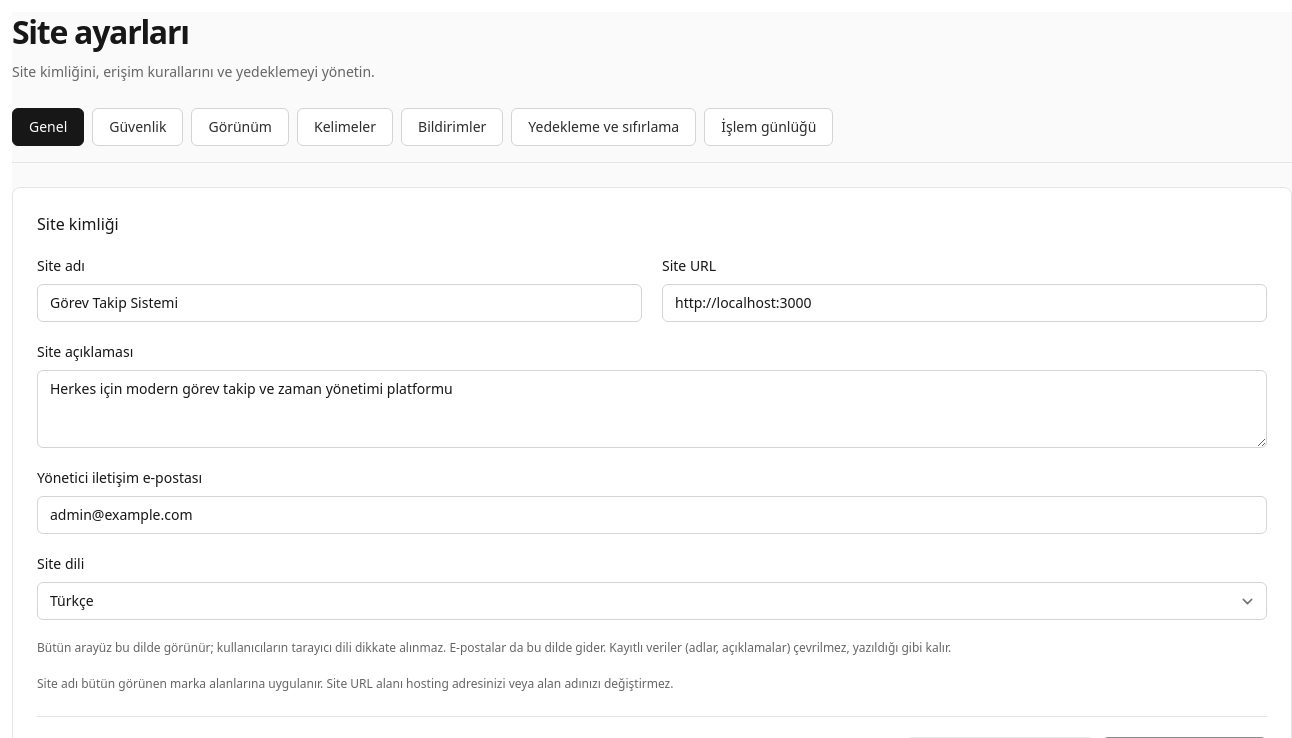
Scenario: distinguishes backup read errors from an empty catalog and supports retry
Expected: the field labelled "Site adı" is shown, [37,284,642,322]
Click the button "Yedekleme ve sıfırlama".
click(604, 127)  # box [511,108,696,146]
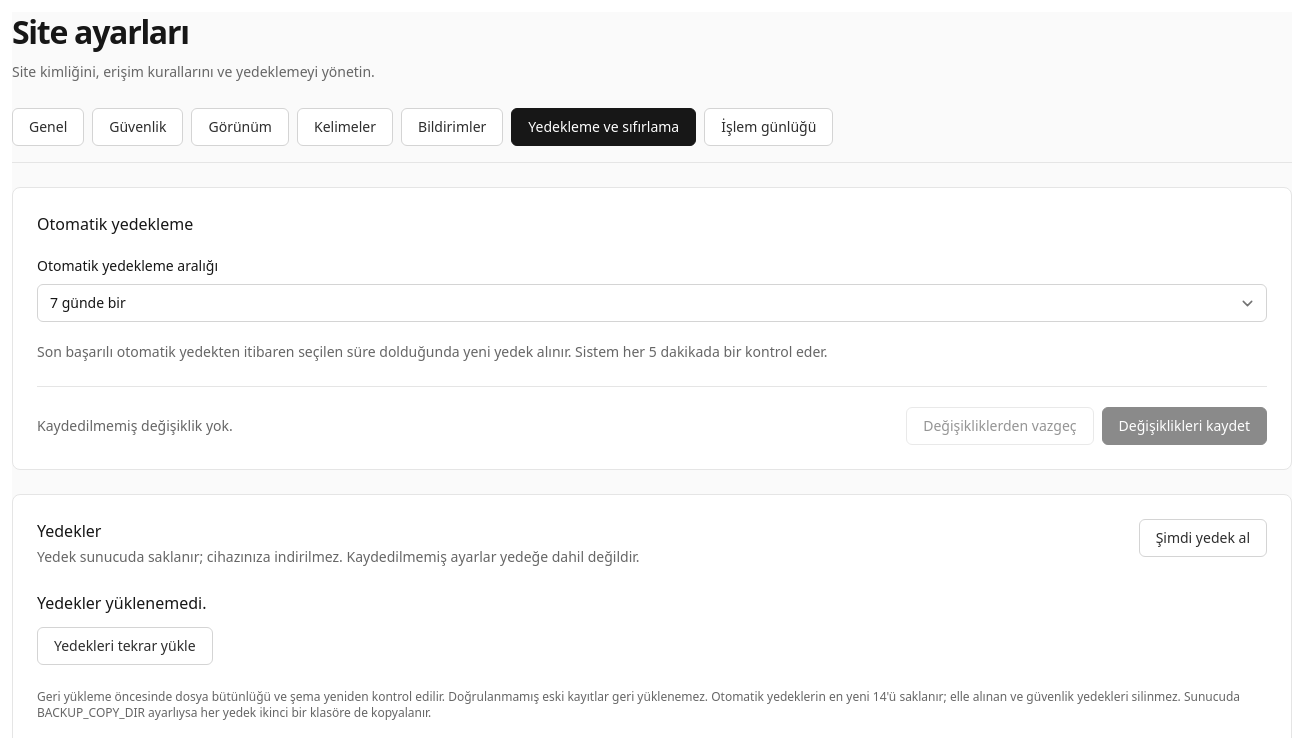
Expected: the text "Henüz yedek bulunmuyor." is not shown
Now the text "Yedekler yüklenemedi." is shown, box [37,592,206,614]
Click the button "Yedekleri tekrar yükle".
click(125, 646)  # box [37,627,213,665]
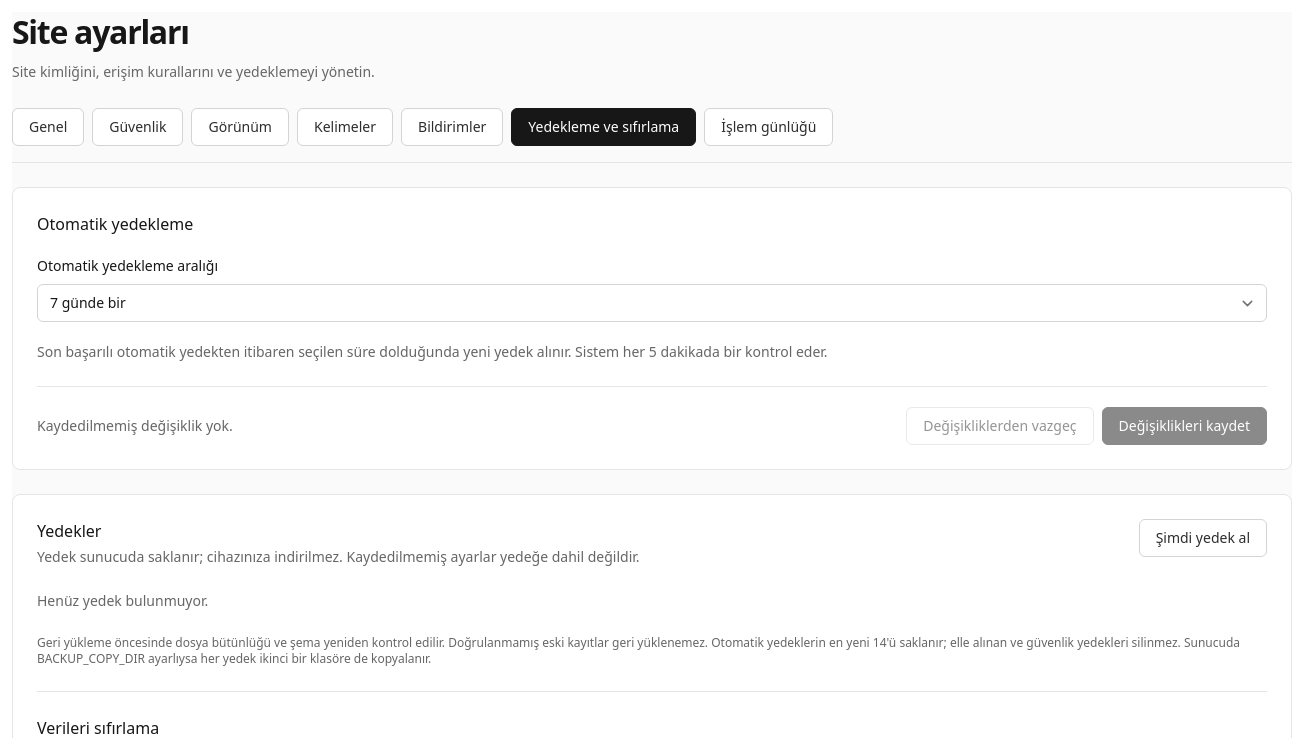
Now the text "Henüz yedek bulunmuyor." is shown, box [37,591,208,610]
